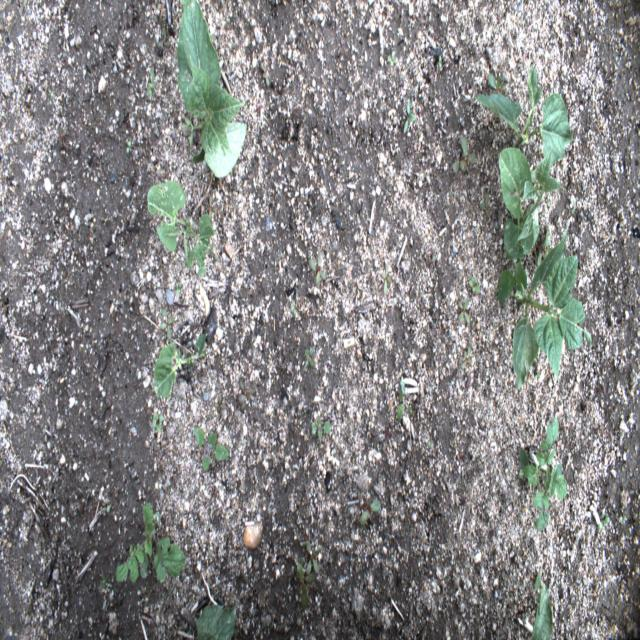crop: (512, 226, 592, 390), (176, 0, 248, 178), (472, 66, 574, 165), (499, 146, 566, 258), (147, 180, 219, 275), (152, 331, 206, 399), (196, 602, 238, 639), (530, 570, 552, 640)
weed: (115, 501, 186, 583), (518, 415, 567, 531), (194, 426, 228, 474), (498, 250, 528, 303), (535, 224, 556, 268), (297, 562, 316, 610), (453, 138, 475, 173), (397, 375, 412, 422), (358, 497, 381, 527), (308, 250, 327, 286), (238, 378, 257, 412), (306, 539, 321, 578), (403, 98, 416, 136), (311, 418, 331, 440), (488, 73, 507, 96), (160, 308, 174, 339), (303, 344, 316, 372), (458, 297, 471, 325), (479, 193, 490, 225), (98, 568, 112, 592), (147, 66, 156, 102), (382, 263, 392, 294), (152, 14, 166, 36), (151, 412, 163, 434), (260, 62, 270, 87), (214, 393, 225, 415), (18, 0, 32, 17), (597, 512, 610, 530), (462, 345, 472, 368), (156, 34, 171, 48), (468, 277, 481, 293), (593, 421, 605, 436), (387, 50, 396, 66), (175, 281, 182, 297), (208, 195, 212, 222), (292, 299, 297, 318), (126, 140, 131, 153), (618, 515, 628, 521), (534, 370, 540, 380), (438, 55, 442, 68)
